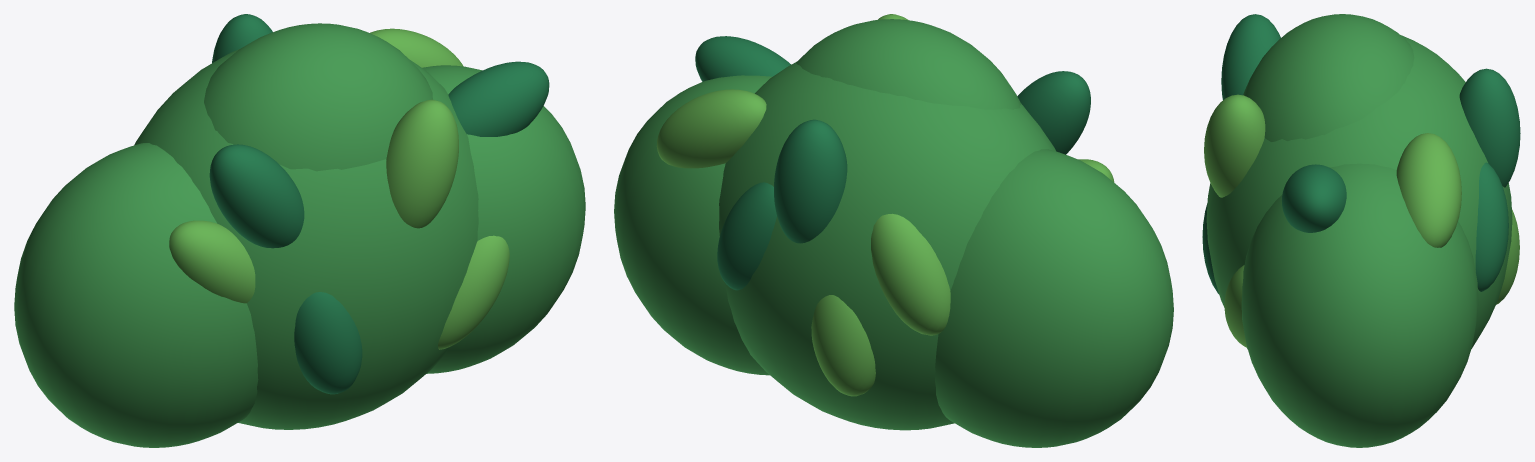
The model's file is bush.glb.
The picture shows the model from 3 angles, left to right: view 1: azimuth 30°, elevation 25°; view 2: azimuth 150°, elevation 25°; view 3: azimuth 270°, elevation 25°; orthographic projection. The views are drawn at different scales.
Parts seen in each view (by area): view 1: bush (×4), leaf (×8); view 2: bush (×4), leaf (×7); view 3: bush (×3), leaf (×9).
Boxes of the visible parts, left/top/right/bottom form: bush (×4): left=14, top=23, right=585, bottom=447; leaf (×8): left=169, top=14, right=549, bottom=394; bush (×4): left=614, top=19, right=1173, bottom=447; leaf (×7): left=656, top=36, right=1090, bottom=396; bush (×3): left=1206, top=14, right=1512, bottom=447; leaf (×9): left=1202, top=14, right=1520, bottom=347.
Size of the model in its own units: 1.32 by 0.9 by 0.7091.
